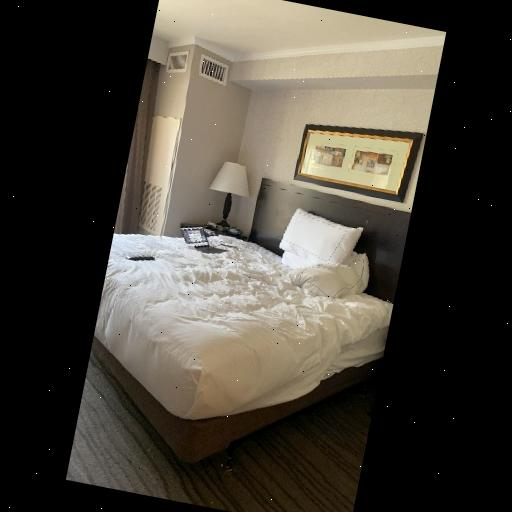lamp: (198, 155, 262, 234)
messy_bed: (88, 176, 410, 470)
